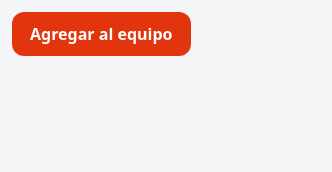
Scenario: AddToTeamButton › adds the Pokémon to the team on click and updates the button
Click the button "Agregar al equipo".
click(101, 34)  # box [12,12,190,56]
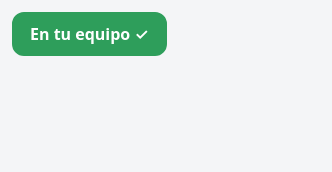
Result: the button "En tu equipo ✓" is disabled at [12,12,166,56]
